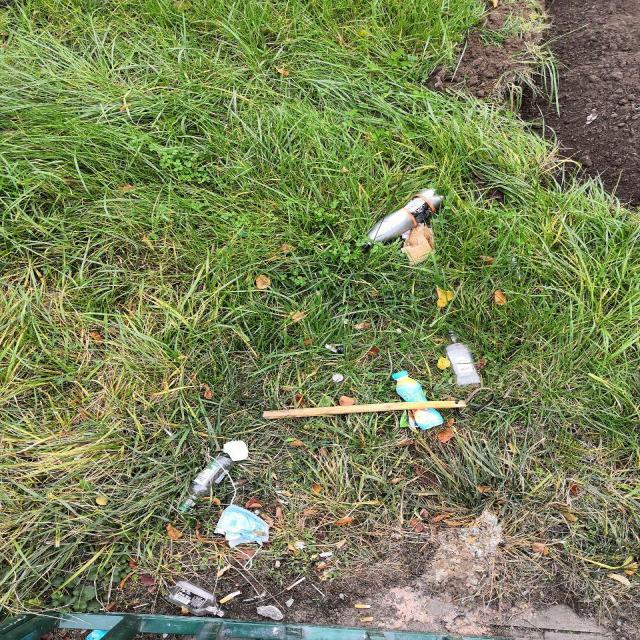rubbish: (361, 186, 446, 249), (259, 399, 467, 420), (213, 502, 271, 570), (177, 454, 238, 516), (389, 368, 444, 430), (440, 328, 483, 388), (162, 580, 229, 618), (398, 224, 438, 266), (222, 438, 250, 462), (217, 590, 243, 606), (331, 372, 345, 382), (359, 616, 373, 622), (354, 604, 372, 608)
